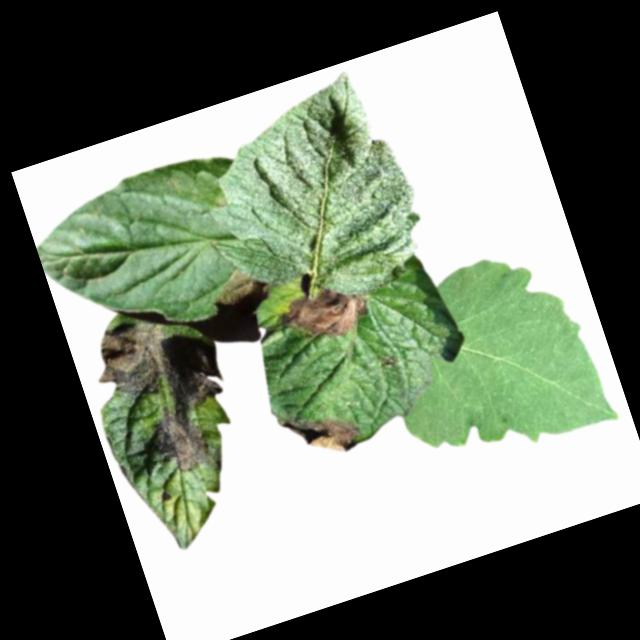Late_blight: (82, 296, 231, 434), (271, 275, 375, 356), (143, 400, 229, 488), (278, 396, 366, 469), (209, 262, 270, 310), (379, 349, 401, 368)
